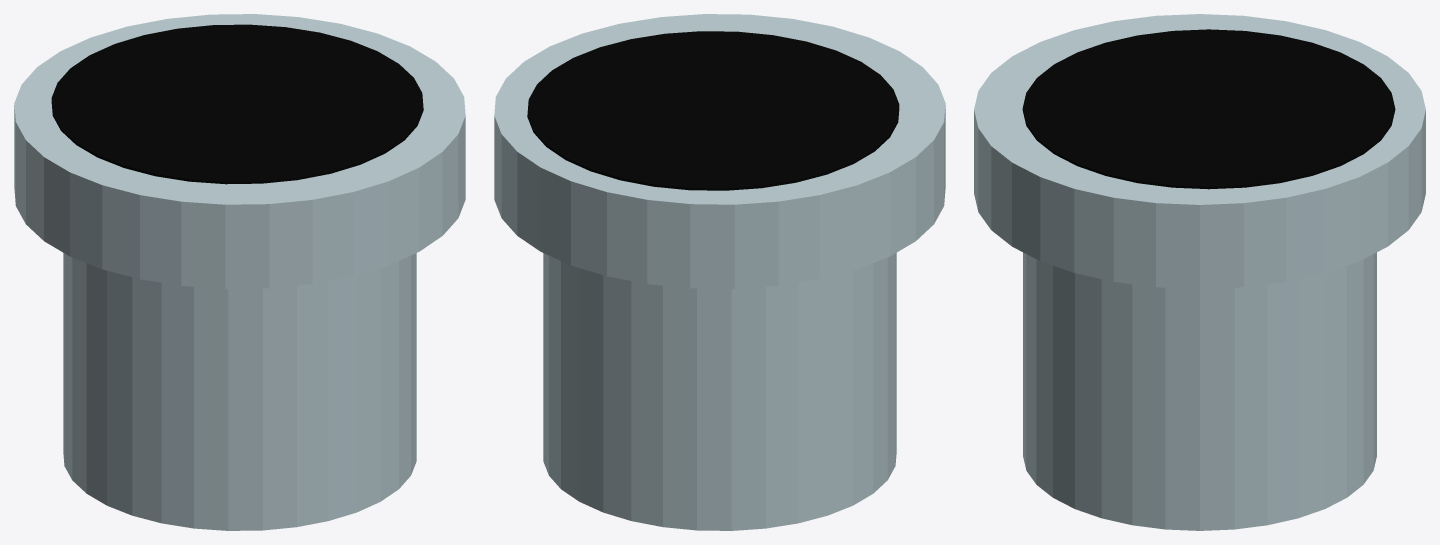
File: pipeb.gltf
3 renders of one model, left to right at view 1: azimuth 30°, elevation 25°; view 2: azimuth 150°, elevation 25°; view 3: azimuth 270°, elevation 25°, orthographic.
Parts seen in each view (by area): view 1: Cylinder.004, Cylinder, Cylinder.001; view 2: Cylinder.004, Cylinder, Cylinder.001; view 3: Cylinder.004, Cylinder, Cylinder.001.
Part boxes in pixels (x1,y1,x2,y2): Cylinder.004: [63, 253, 416, 530]; Cylinder: [14, 14, 465, 288]; Cylinder.001: [51, 24, 423, 184]; Cylinder.004: [543, 253, 896, 530]; Cylinder: [494, 14, 945, 288]; Cylinder.001: [527, 31, 899, 190]; Cylinder.004: [1023, 252, 1376, 530]; Cylinder: [974, 14, 1425, 288]; Cylinder.001: [1022, 29, 1395, 189].
Size of the model in its own units: 1.04 by 0.8827 by 1.04.
